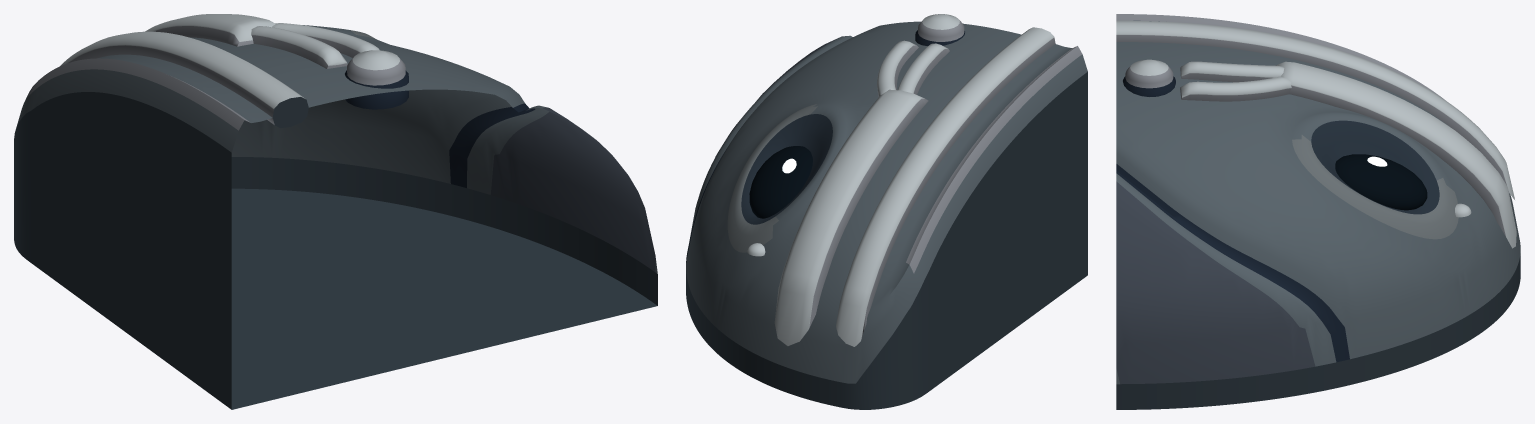
Rendered from fire_housing_r_top.glb.
3 views of the same model, side by side, from view 1: azimuth 30°, elevation 25°; view 2: azimuth 150°, elevation 25°; view 3: azimuth 270°, elevation 25° (orthographic). The views are drawn at different scales.
Visible parts, largest first — view 1: shell_wall.001, shell.001, rib_outer.001, knob.001, rib_inner.001, prong_right.001, prong_left.001; view 2: shell.001, shell_wall.001, rib_inner.001, rib_outer.001, eye.001, knob.001, prong_right.001, prong_left.001; view 3: shell.001, shell_wall.001, rib_outer.001, rib_inner.001, eye.001, prong_left.001, prong_right.001, knob.001.
Part boxes in pixels (<box>): shell_wall.001: <box>14,92,657,409</box>; shell.001: <box>15,25,657,273</box>; rib_outer.001: <box>60,31,308,128</box>; knob.001: <box>345,50,408,109</box>; rib_inner.001: <box>145,14,275,46</box>; prong_right.001: <box>251,26,347,68</box>; prong_left.001: <box>272,23,379,57</box>; shell.001: <box>686,21,1087,383</box>; shell_wall.001: <box>686,72,1087,409</box>; rib_inner.001: <box>774,89,928,345</box>; rib_outer.001: <box>836,27,1055,346</box>; eye.001: <box>749,146,812,218</box>; knob.001: <box>915,14,964,46</box>; prong_right.001: <box>897,43,949,94</box>; prong_left.001: <box>877,40,918,97</box>; shell.001: <box>1116,14,1520,384</box>; shell_wall.001: <box>1116,253,1520,409</box>; rib_outer.001: <box>1116,20,1514,199</box>; rib_inner.001: <box>1276,61,1516,248</box>; eye.001: <box>1335,154,1427,210</box>; prong_left.001: <box>1180,76,1291,101</box>; prong_right.001: <box>1180,61,1284,82</box>; knob.001: <box>1123,59,1175,96</box>.
Bounding box in the file's own units: 21.7 × 14.64 × 22.
